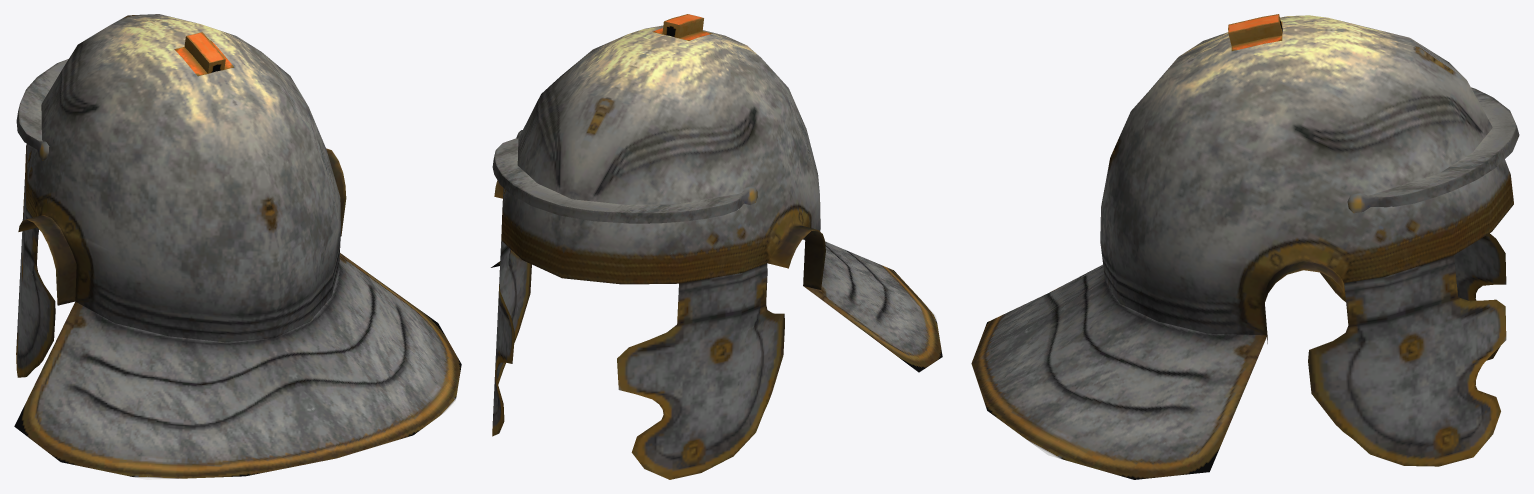
Rendered from helm_rome_gallic_type_f.glb.
The picture shows the model from 3 angles, left to right: view 1: azimuth 30°, elevation 25°; view 2: azimuth 150°, elevation 25°; view 3: azimuth 270°, elevation 25°; orthographic projection. The views are drawn at different scales.
Parts seen in each view (by area): view 1: helm_rome_gallic_type_f_part0; view 2: helm_rome_gallic_type_f_part0; view 3: helm_rome_gallic_type_f_part0.
Part boxes in pixels (left/top/right/bottom): helm_rome_gallic_type_f_part0: left=14, top=14, right=461, bottom=479; helm_rome_gallic_type_f_part0: left=491, top=14, right=942, bottom=479; helm_rome_gallic_type_f_part0: left=971, top=14, right=1519, bottom=479.
Size of the model in its own units: 0.7272 by 0.5985 by 0.7546.
Materials: 1 (1 with a texture image).
